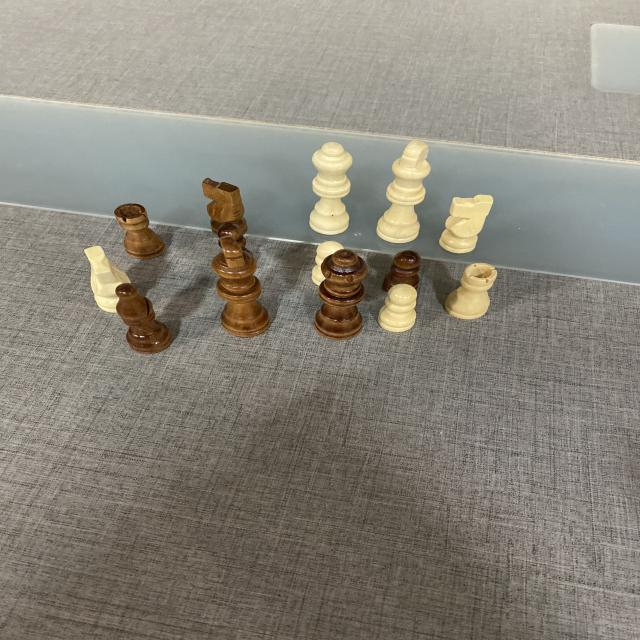Black-Bishop: (114, 282, 176, 353)
Black-King: (373, 142, 432, 243), (216, 235, 268, 337)
Black-Knight: (203, 178, 244, 238)
Black-Pawn: (382, 250, 422, 292)
Black-Queen: (314, 250, 370, 338), (305, 142, 355, 235)
Black-Rook: (114, 203, 166, 258)
White-Knight: (439, 192, 496, 252), (84, 247, 135, 313)
White-Pawn: (376, 285, 419, 331), (312, 242, 342, 285)
White-Rook: (445, 264, 499, 319)
